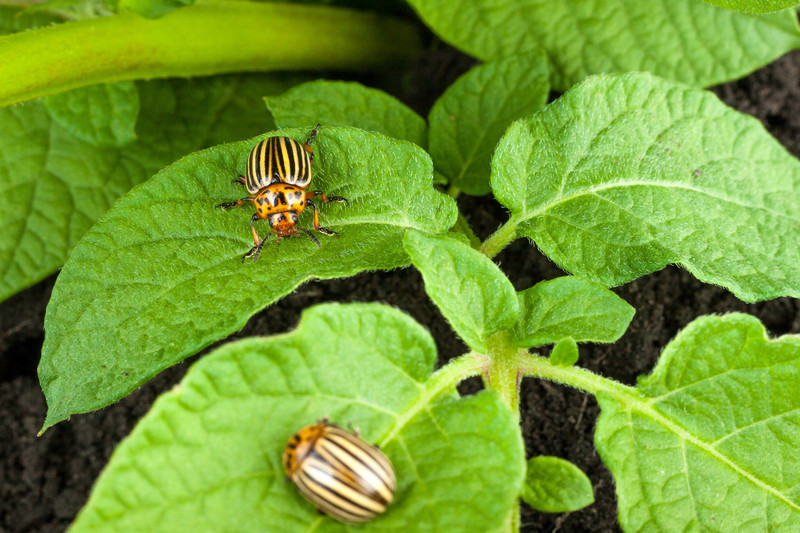hrosc: (227, 131, 340, 262), (279, 420, 397, 521)
